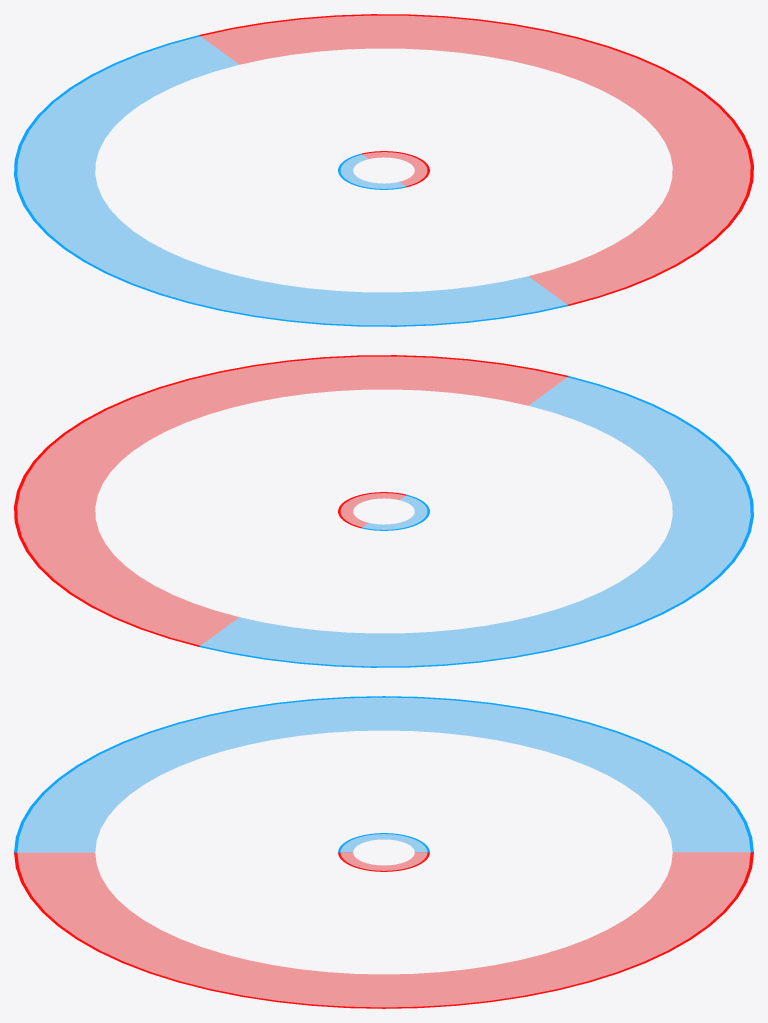
The model's file is HotZone.fbx.
The picture shows the model from 3 angles, top to bottom: view 1: azimuth 30°, elevation 25°; view 2: azimuth 150°, elevation 25°; view 3: azimuth 270°, elevation 25°; orthographic projection.
Visible parts, largest first — view 1: HotZone; view 2: HotZone; view 3: HotZone.
Part boxes in pixels (x1,y1,x2,y2): HotZone: (14,14,753,326); HotZone: (14,355,753,667); HotZone: (14,696,753,1008).
Bounding box in the file's own units: 11.96 × 11.96 × 0.
